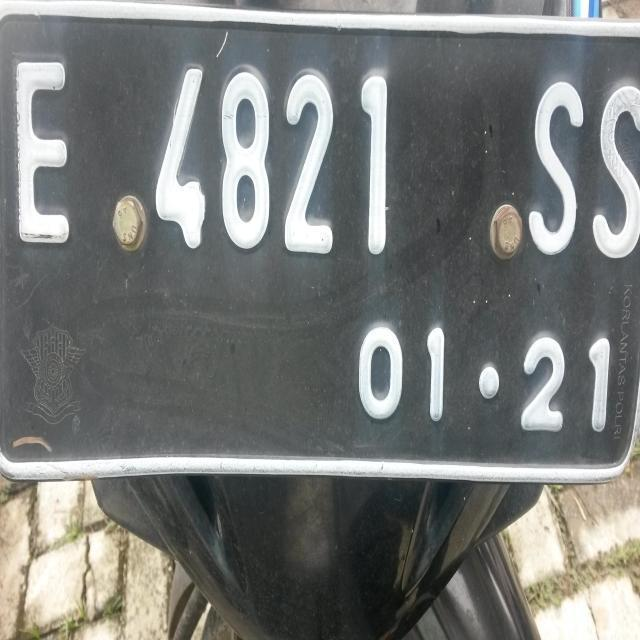1: (353, 47, 397, 274)
2: (276, 49, 338, 272)
4: (150, 55, 215, 262)
8: (218, 50, 274, 264)
E: (9, 40, 80, 262)
S: (526, 76, 588, 264), (592, 62, 640, 268)
